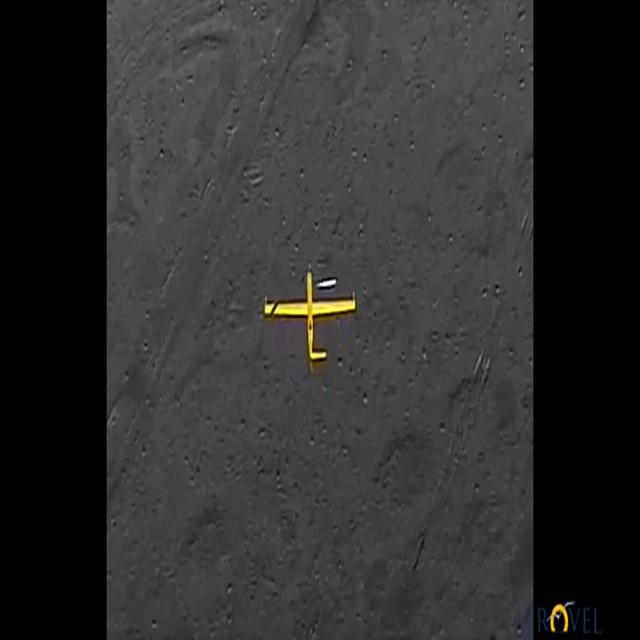iha: (296, 300, 324, 331)
